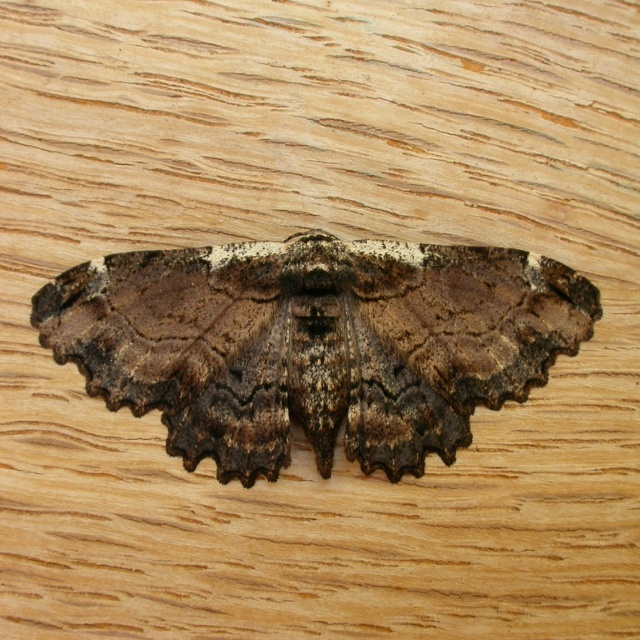Moths and butterflies: (28, 226, 605, 494)
